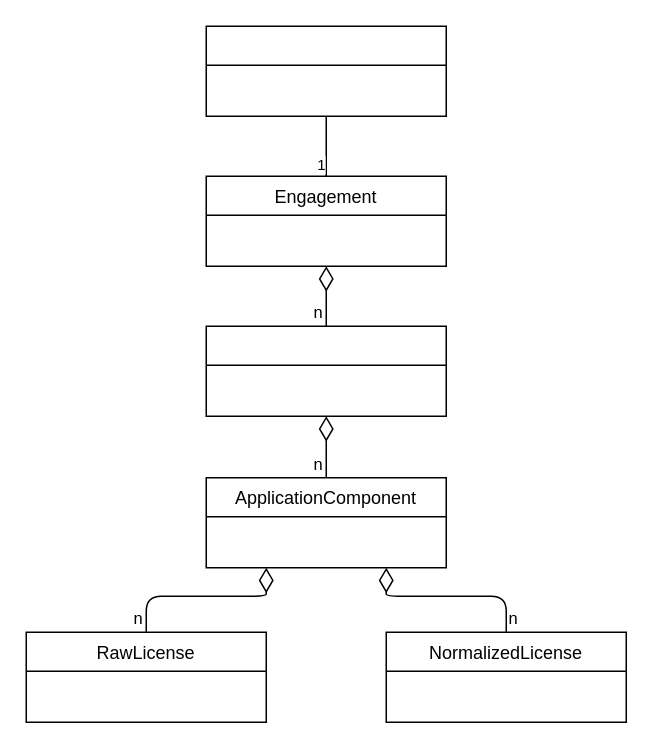
The diagram is 653 pixels wide and 749 high, and some of its shapes have lost their labels. The box of each missing label's shape, as (x1, y1, x2, y2) in pixels:
Application: (205, 325, 446, 416)
ModelRoot: (205, 25, 446, 116)
